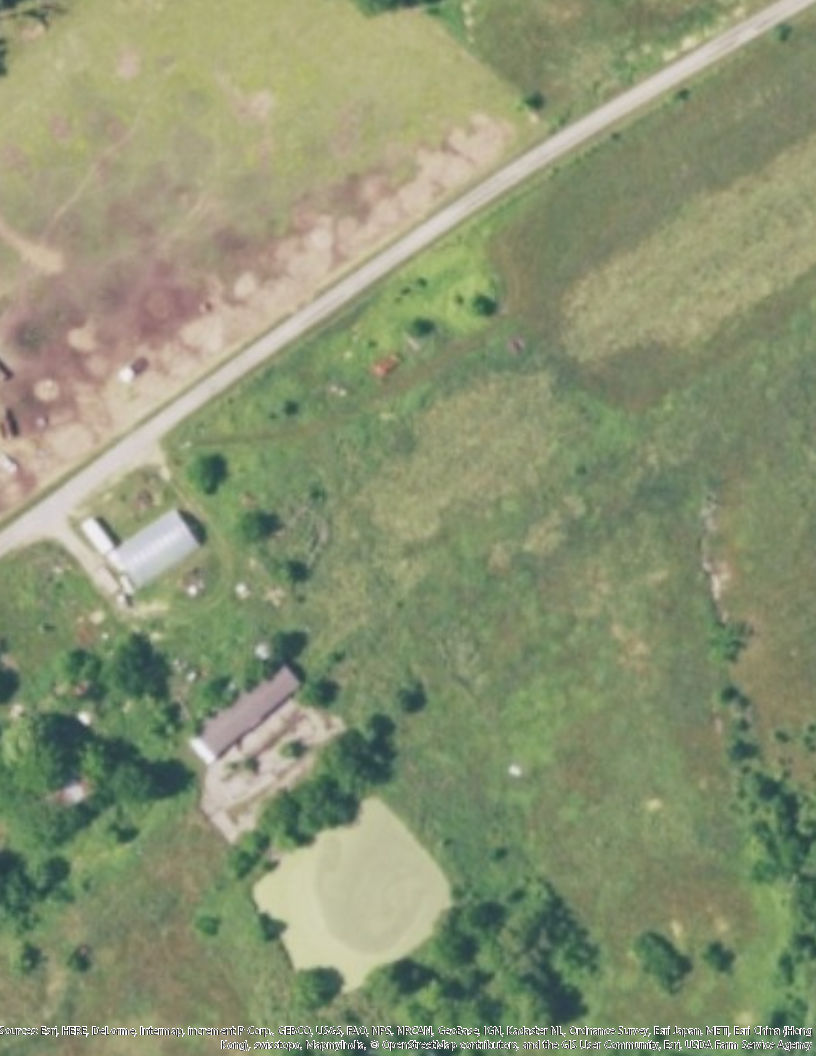cafo: (87, 514, 202, 585)
